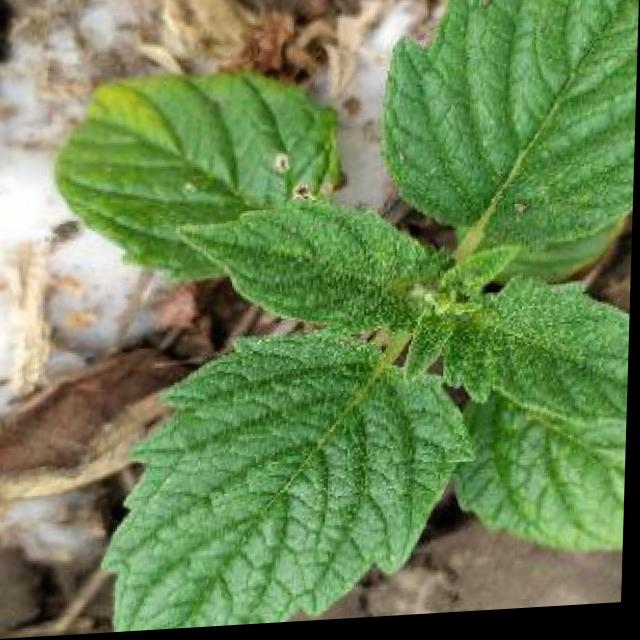crop: (1, 0, 640, 639)
